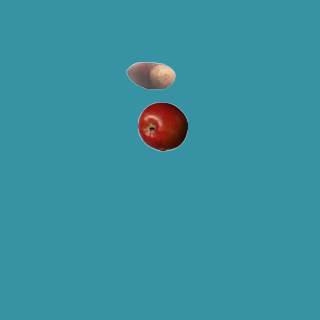Apple Braeburn: (137, 101, 187, 151)
Hazelnut: (125, 50, 175, 100)
